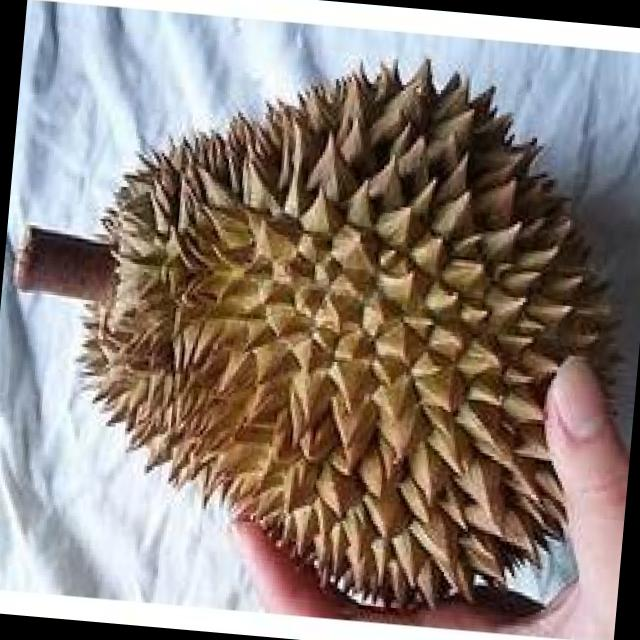fruit: (212, 239, 640, 633), (227, 33, 640, 409)
